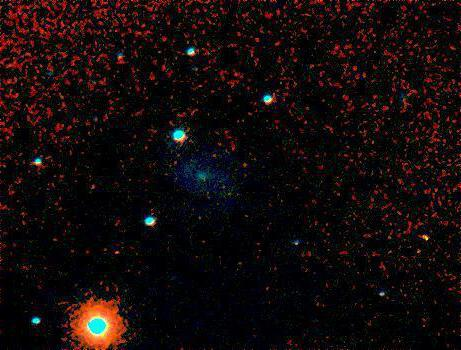star: (104, 235, 134, 265)
